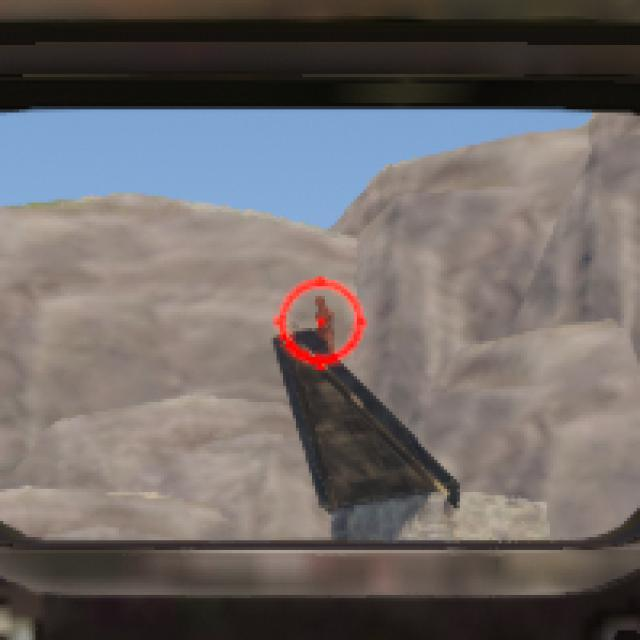Player: (315, 297, 333, 350)
